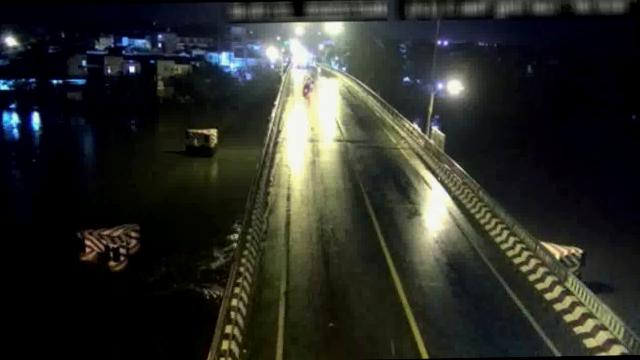Bike: (302, 76, 311, 96)
